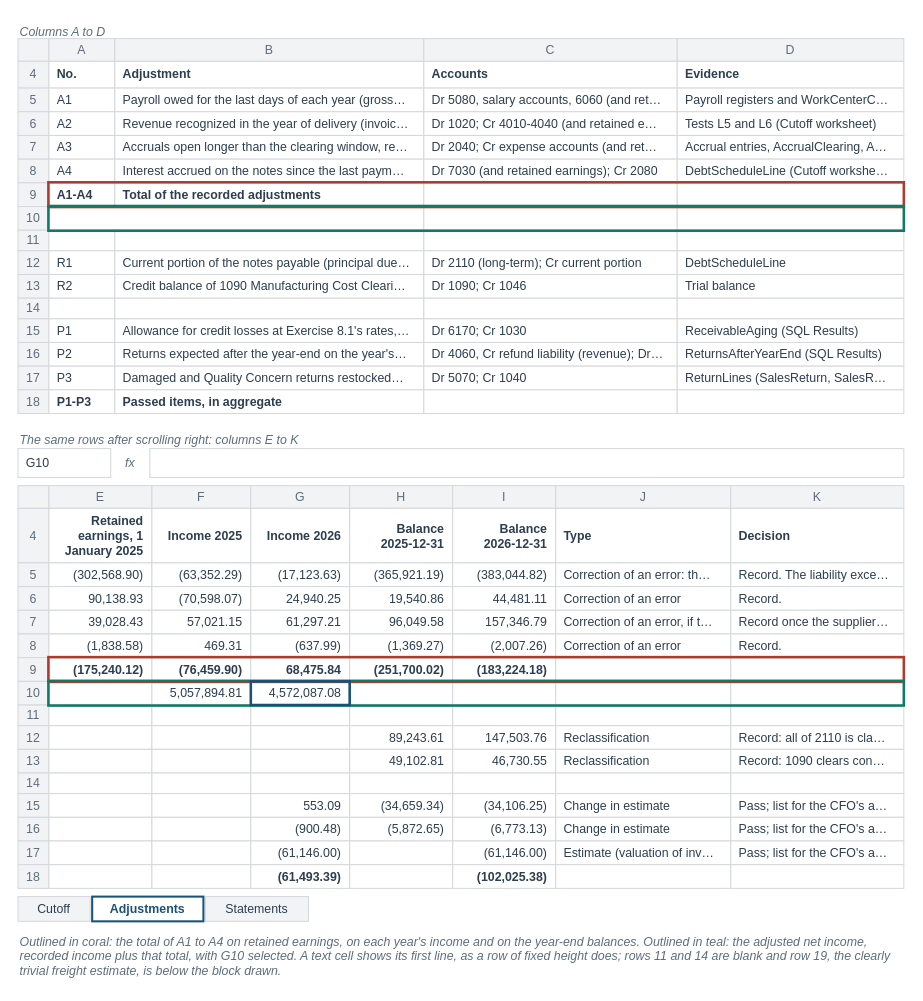
Some shapes in this 923 by 1001 pixel diagram are drawn without their labels. Here are the shapes that lost their labels. From the top down, the centre of each, then its label:
At (236,217): "Adjusted net income".
At (526,462): "=RecNI_2026+AdjTotal_2026".
